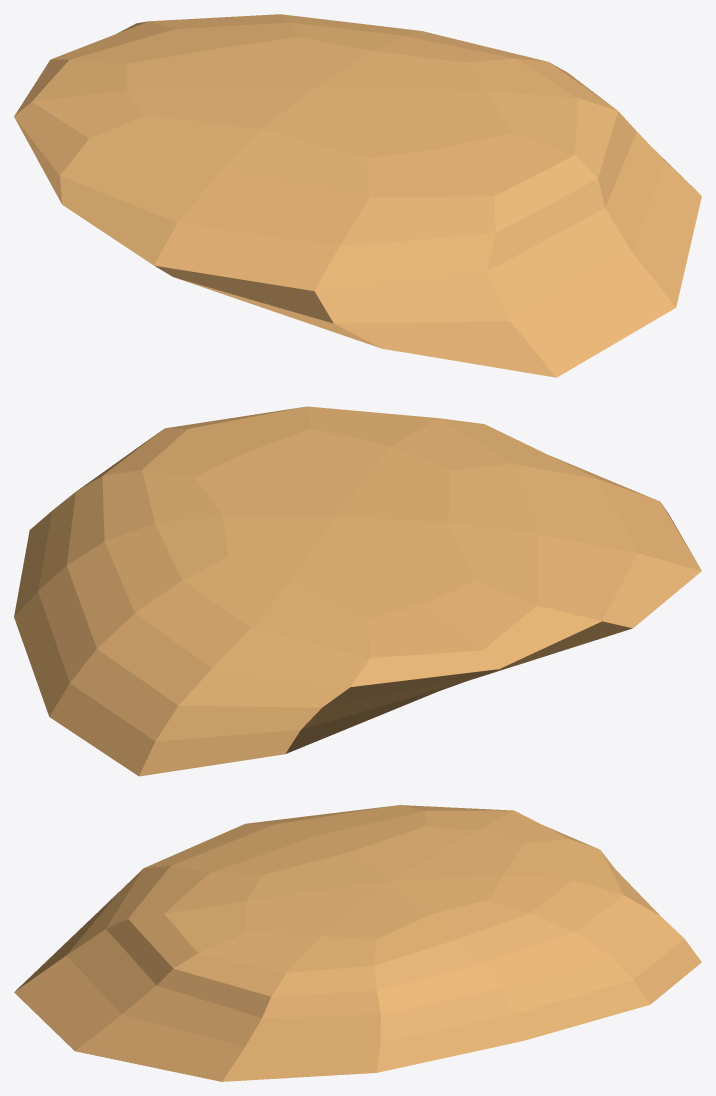
Rendered from Sand5.glb.
The picture shows the model from 3 angles, top to bottom: view 1: azimuth 30°, elevation 25°; view 2: azimuth 150°, elevation 25°; view 3: azimuth 270°, elevation 25°; orthographic projection. The views are drawn at different scales.
Parts seen in each view (by area): view 1: Sand7; view 2: Sand7; view 3: Sand7.
Part boxes in pixels (x1,y1,x2,y2): Sand7: [14, 14, 701, 377]; Sand7: [14, 406, 701, 776]; Sand7: [14, 805, 701, 1081].
Bounding box in the file's own units: 49.02 × 10.79 × 63.39.
